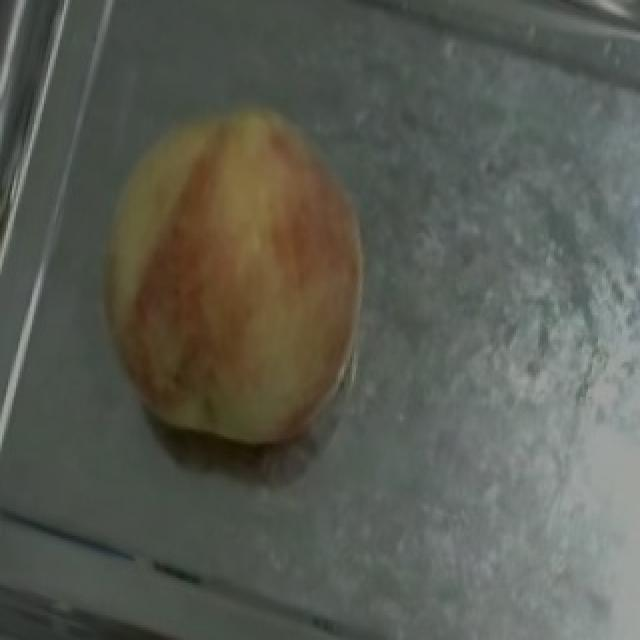Fruit: (72, 67, 406, 456)
